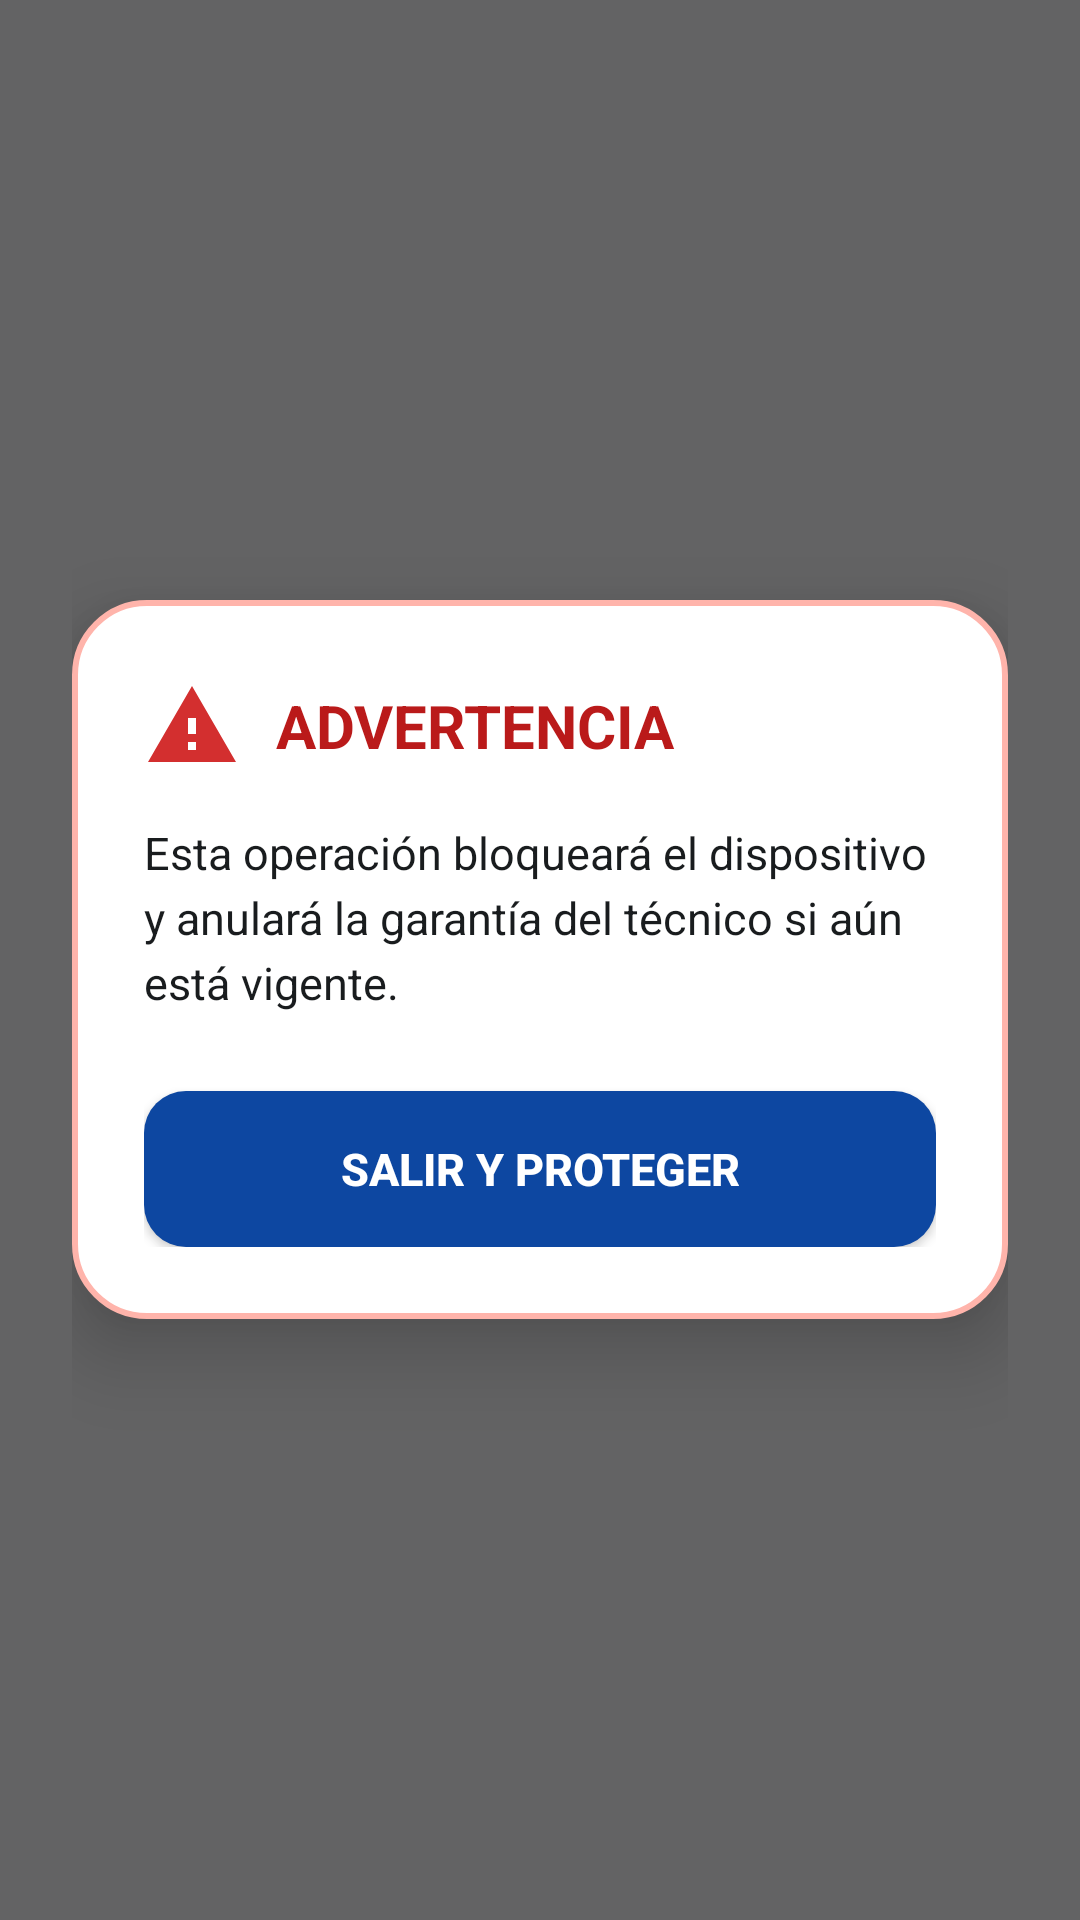

Locate icon controls on the screen. Image size 1080px×1920px, boxes as bbox(x1, y1, x2, y2).
warning shield: bbox(148, 686, 236, 762)
